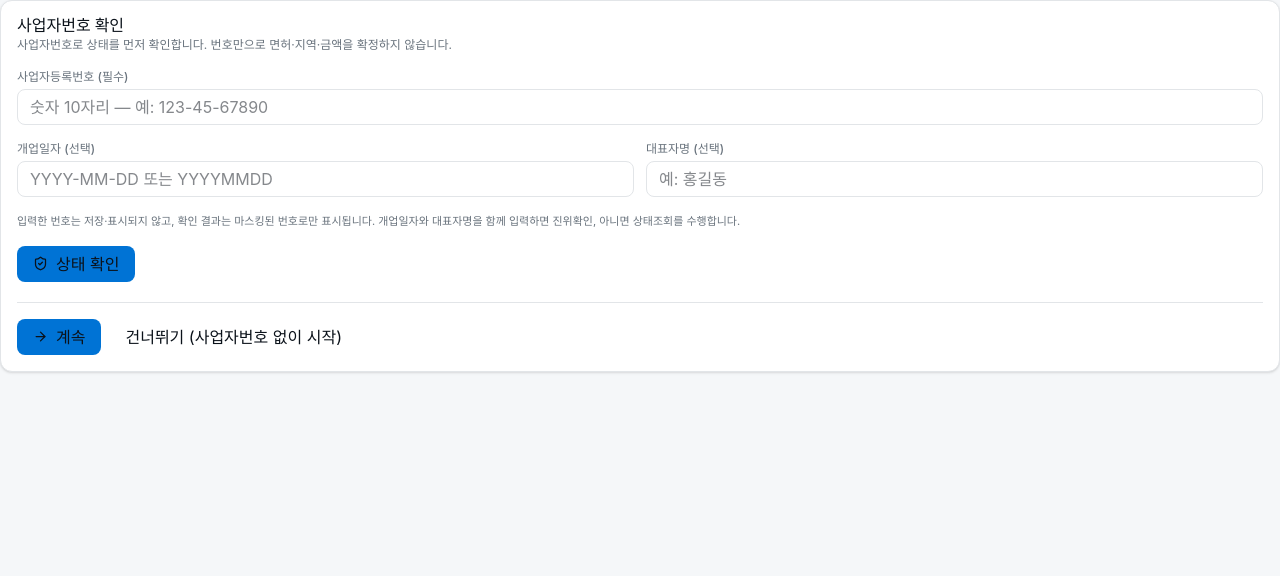
Test: BusinessStep › inactive 응답은 진행 전 경고(warning gate)를 노출한다
The image size is (1280, 576).
In the field labelled "사업자등록번호 (필수)": (640, 107) x1=17 y1=89 x2=1263 y2=125, type "1112223333"
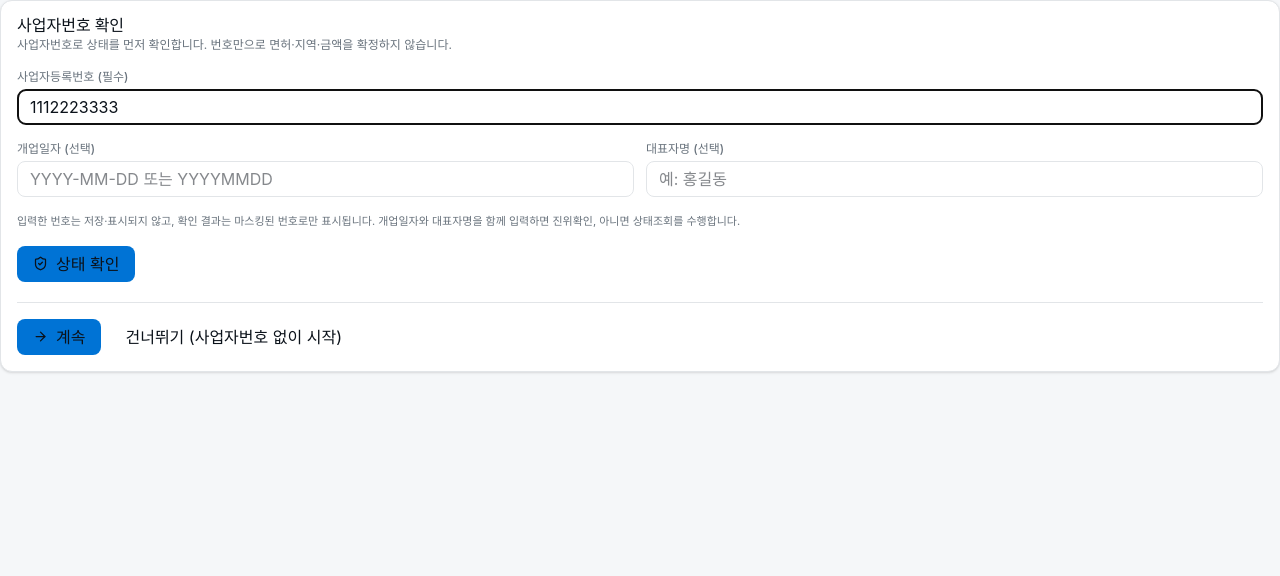
Click the button "상태 확인": (76, 264) x1=17 y1=246 x2=135 y2=282
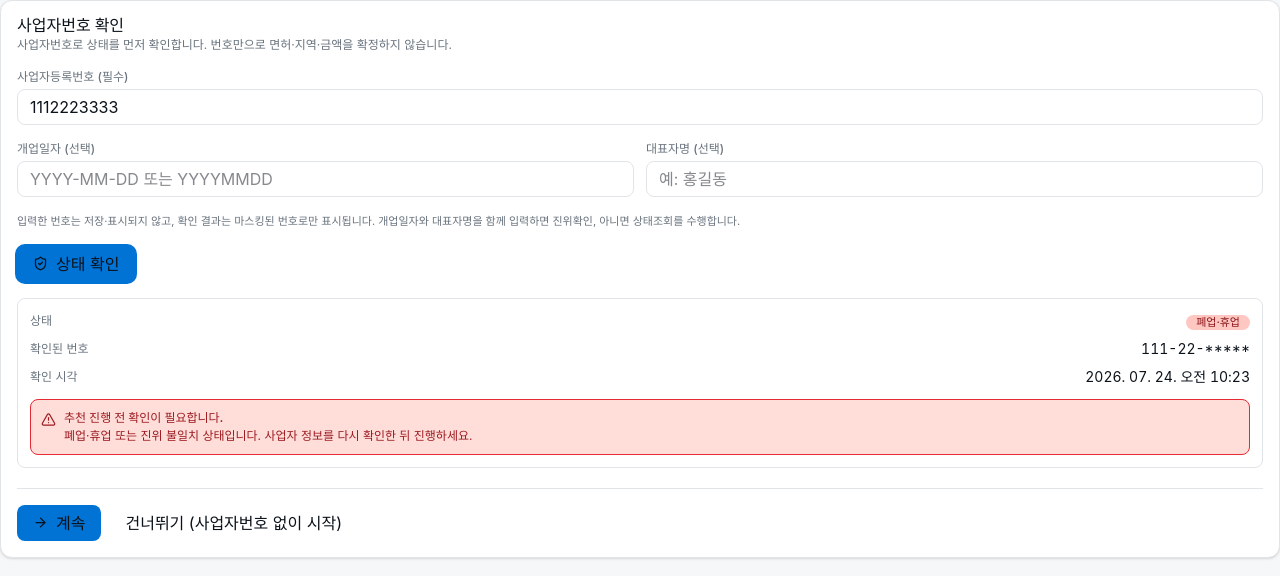
Expected: the message is shown, x1=17 y1=298 x2=1263 y2=468
Expected: the message shows "추천 진행 전 확인이 필요", x1=64 y1=410 x2=224 y2=424
